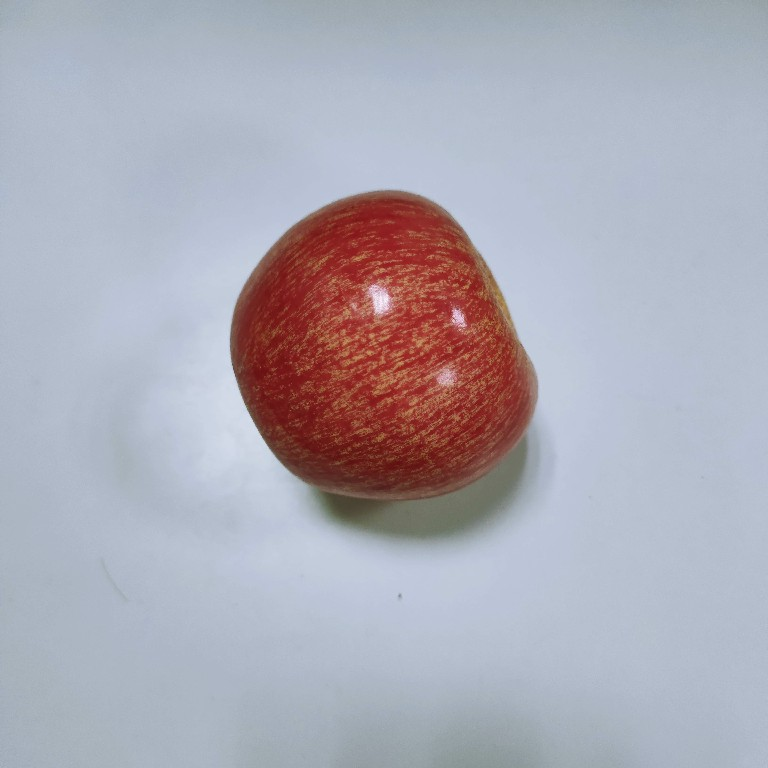fruit_apple: (227, 186, 544, 505)
